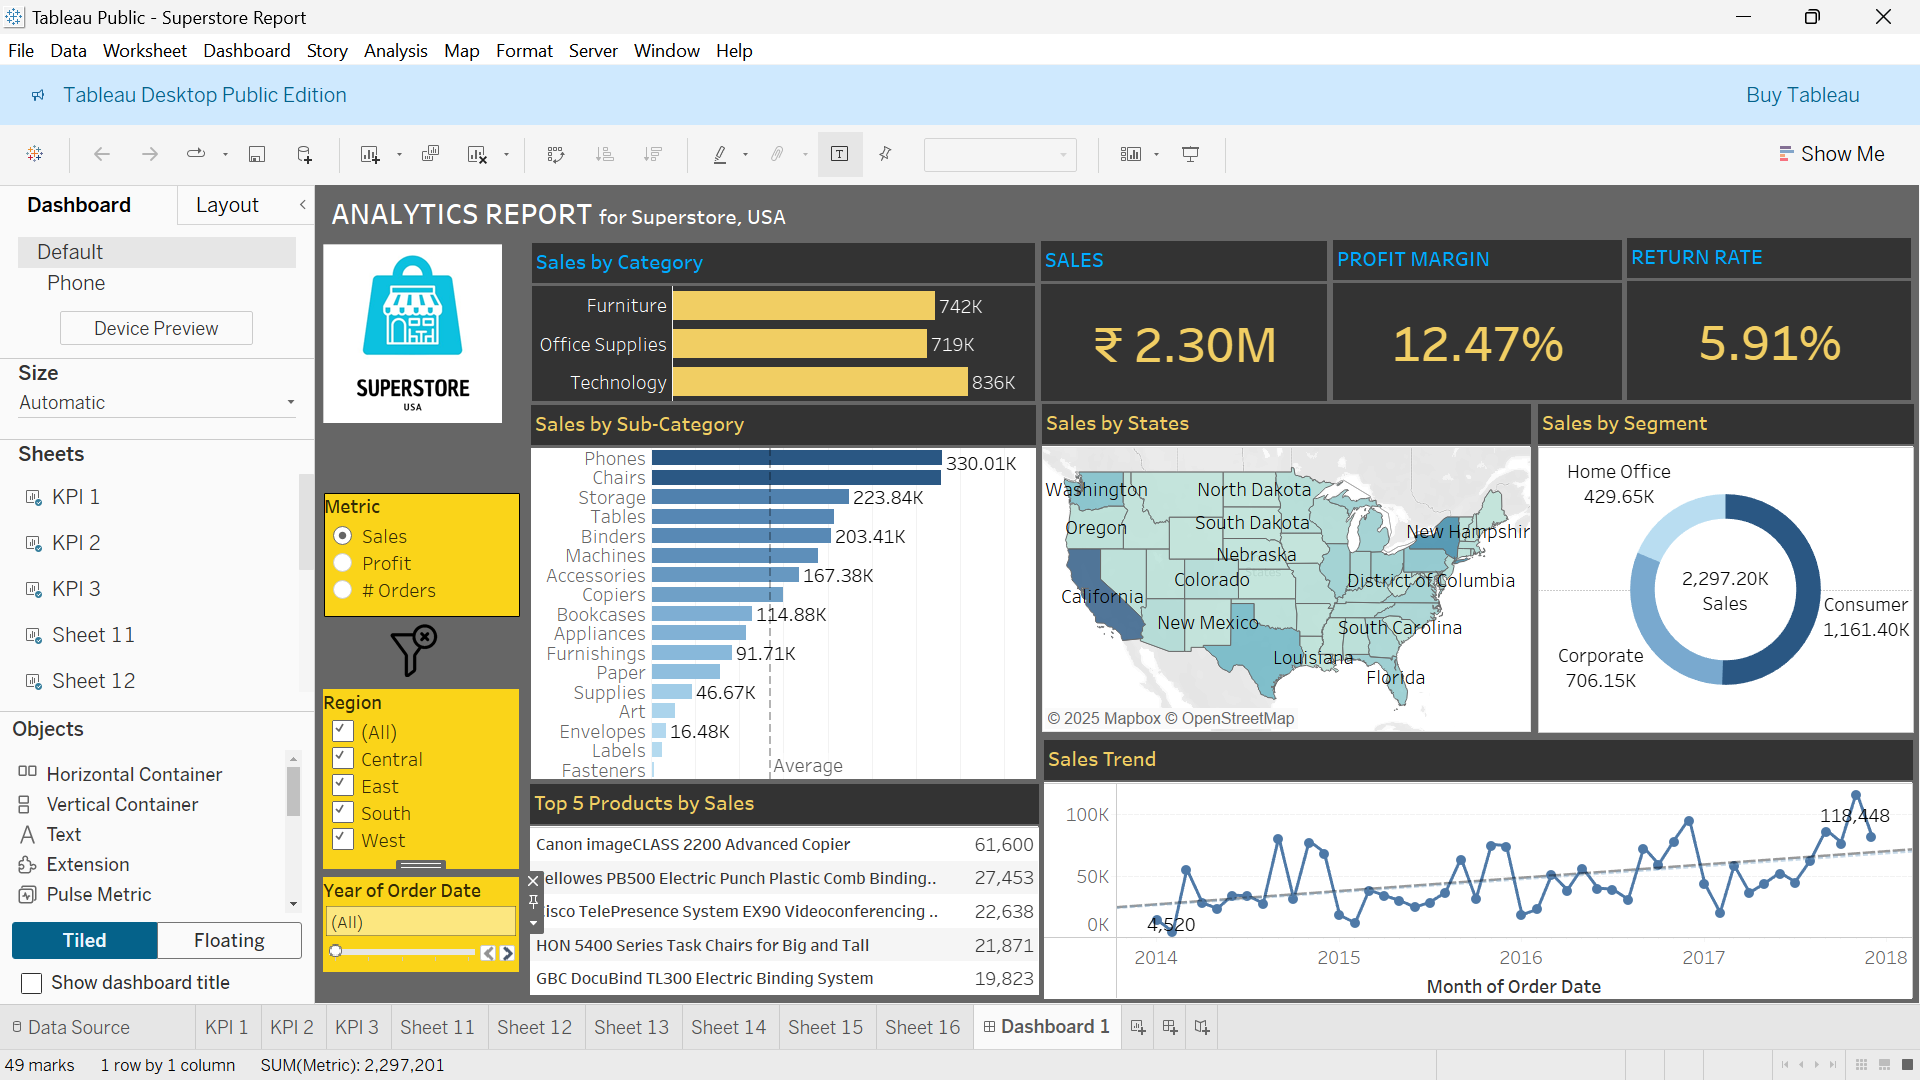

Layout of this report page (visuals, bound fields, positions):
{"tool":"tableau","page":{"name":"Dashboard 1","canvas":[1000,1000],"units":"permille","ordinal":0},"visuals":[{"type":"title","box":[5,10.7,990,49.6]},{"type":"worksheet","title":"KPI 3","mark":"Automatic","box":[817.7,64.3,177.4,198.4]},{"type":"worksheet","title":"KPI 2","mark":"Automatic","box":[634.8,67,180.5,195.7]},{"type":"worksheet","title":"KPI 1","mark":"Automatic","box":[452.4,68.4,178.6,195.7]},{"type":"worksheet","title":"Sheet 11","mark":"Automatic","rows":["Category"],"cols":["Calculation_273030749291077655"],"box":[135.1,71,313.7,193]},{"type":"image","param":"Image/1.jpg","box":[5,72.4,111.6,244]},{"type":"worksheet","title":"Sheet 13","mark":"Automatic","box":[453,268.1,305.1,400.8]},{"type":"worksheet","title":"Sheet 16","mark":"Pie","rows":["Calculation_273030749341356063","Calculation_273030749341339677"],"box":[762.4,268.1,234.5,402.1]},{"type":"worksheet","title":"Sheet 14","mark":"Automatic","rows":["Sub-Category"],"cols":["Calculation_273030749291077655"],"box":[134.4,269.4,314.9,457.1]},{"type":"parameter","param":"[Parameters].[Parameter 3]","box":[5.6,376.7,122.2,151.5]},{"type":"dashboard-object","box":[44.9,530.8,33,76.4]},{"type":"filter","title":"Sheet 13","param":"[federated.0xrvtc81y396yb12sarm60gy1mlo].[none:Region:nk]","box":[2.5,611.3,127.1,252]},{"type":"worksheet","title":"Sheet 15","mark":"Automatic","rows":["Calculation_273030749291077655","Calculation_273030749291077655"],"cols":["Order Date"],"box":[454.3,678.3,542,316.4]},{"type":"worksheet","title":"Sheet 12","mark":"Automatic","rows":["Product Name"],"box":[133.8,731.9,317.4,258.7]},{"type":"filter","title":"Sheet 13","param":"[federated.0xrvtc81y396yb12sarm60gy1mlo].[yr:Order Date:ok]","box":[2.5,863.3,127.1,126]}]}

Visuals, with their boxes on the dashboard's canvas, which has no fixed pixel size, in thousandths of its width and height (x1, y1, x2, y2). These are canvas units, not pixel positions in the 1920x1080 screenshot, which may show the page scaled, cropped or inside an application window:
title: 5 11 995 60
"KPI 3" worksheet: 818 64 995 263
"KPI 2" worksheet: 635 67 815 263
"KPI 1" worksheet: 452 68 631 264
"Sheet 11" worksheet: 135 71 449 264
image: 5 72 117 316
"Sheet 13" worksheet: 453 268 758 669
"Sheet 16" worksheet (Pie marks): 762 268 997 670
"Sheet 14" worksheet: 134 269 449 726
parameter: 6 377 128 528
dashboard-object: 45 531 78 607
"Sheet 13" filter: 2 611 130 863
"Sheet 15" worksheet: 454 678 996 995
"Sheet 12" worksheet: 134 732 451 991
"Sheet 13" filter: 2 863 130 989
